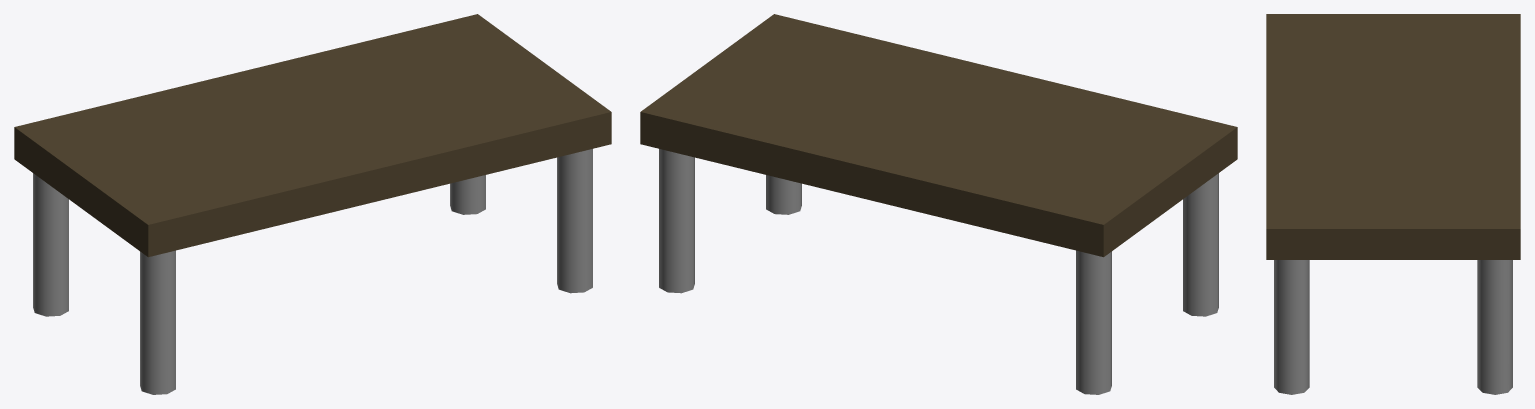
The model's file is Table.FBX.
3 renders of one model, left to right at view 1: azimuth 30°, elevation 25°; view 2: azimuth 150°, elevation 25°; view 3: azimuth 270°, elevation 25°, orthographic. The views are drawn at different scales.
Parts seen in each view (by area): view 1: Table; view 2: Table; view 3: Table.
Boxes of the visible parts, bbox=[...] form: Table: bbox=[14, 14, 611, 394]; Table: bbox=[640, 14, 1237, 394]; Table: bbox=[1266, 14, 1520, 394].
Size of the model in its own units: 118 by 43.31 by 59.06.
